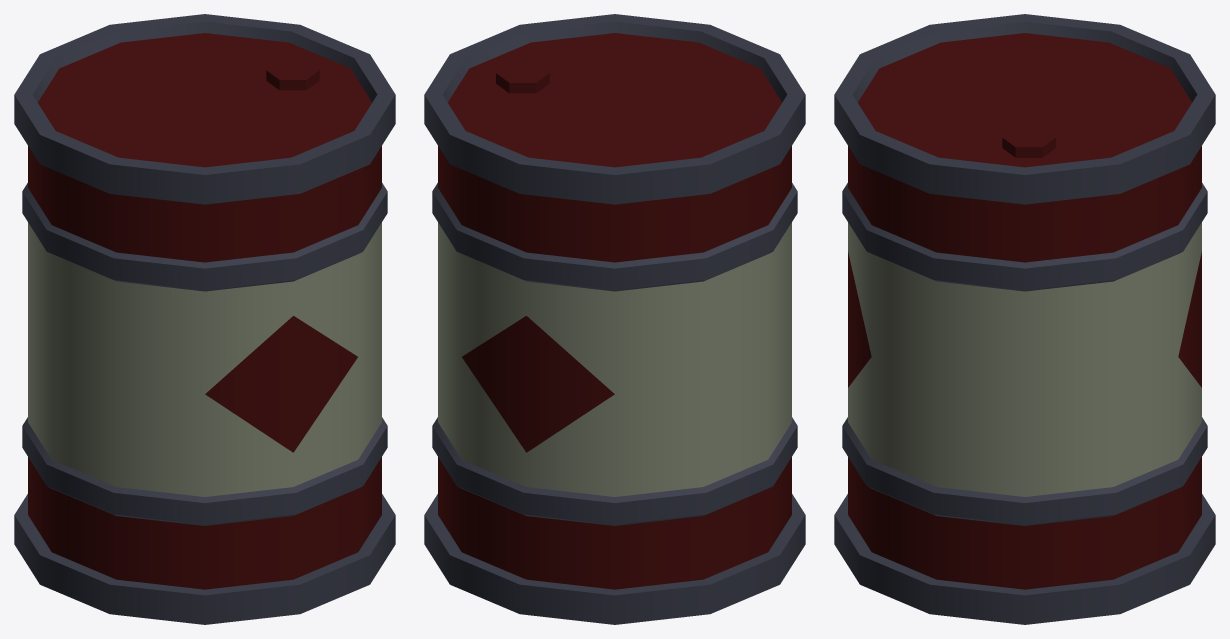
The model's file is ExplodingBarrel.obj.
3 renders of one model, left to right at view 1: azimuth 30°, elevation 25°; view 2: azimuth 150°, elevation 25°; view 3: azimuth 270°, elevation 25°, orthographic.
Visible parts, largest first — view 1: ExplodingBarrel_Cylinder.003; view 2: ExplodingBarrel_Cylinder.003; view 3: ExplodingBarrel_Cylinder.003.
Boxes of the visible parts, <box> form: ExplodingBarrel_Cylinder.003: <box>14,14,395,624</box>; ExplodingBarrel_Cylinder.003: <box>424,14,805,624</box>; ExplodingBarrel_Cylinder.003: <box>834,14,1215,624</box>.
Size of the model in its own units: 0.785 by 1.02 by 0.785.
